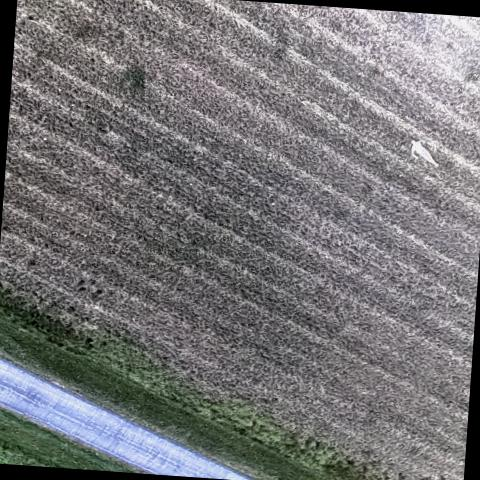person: (408, 136, 440, 169)
